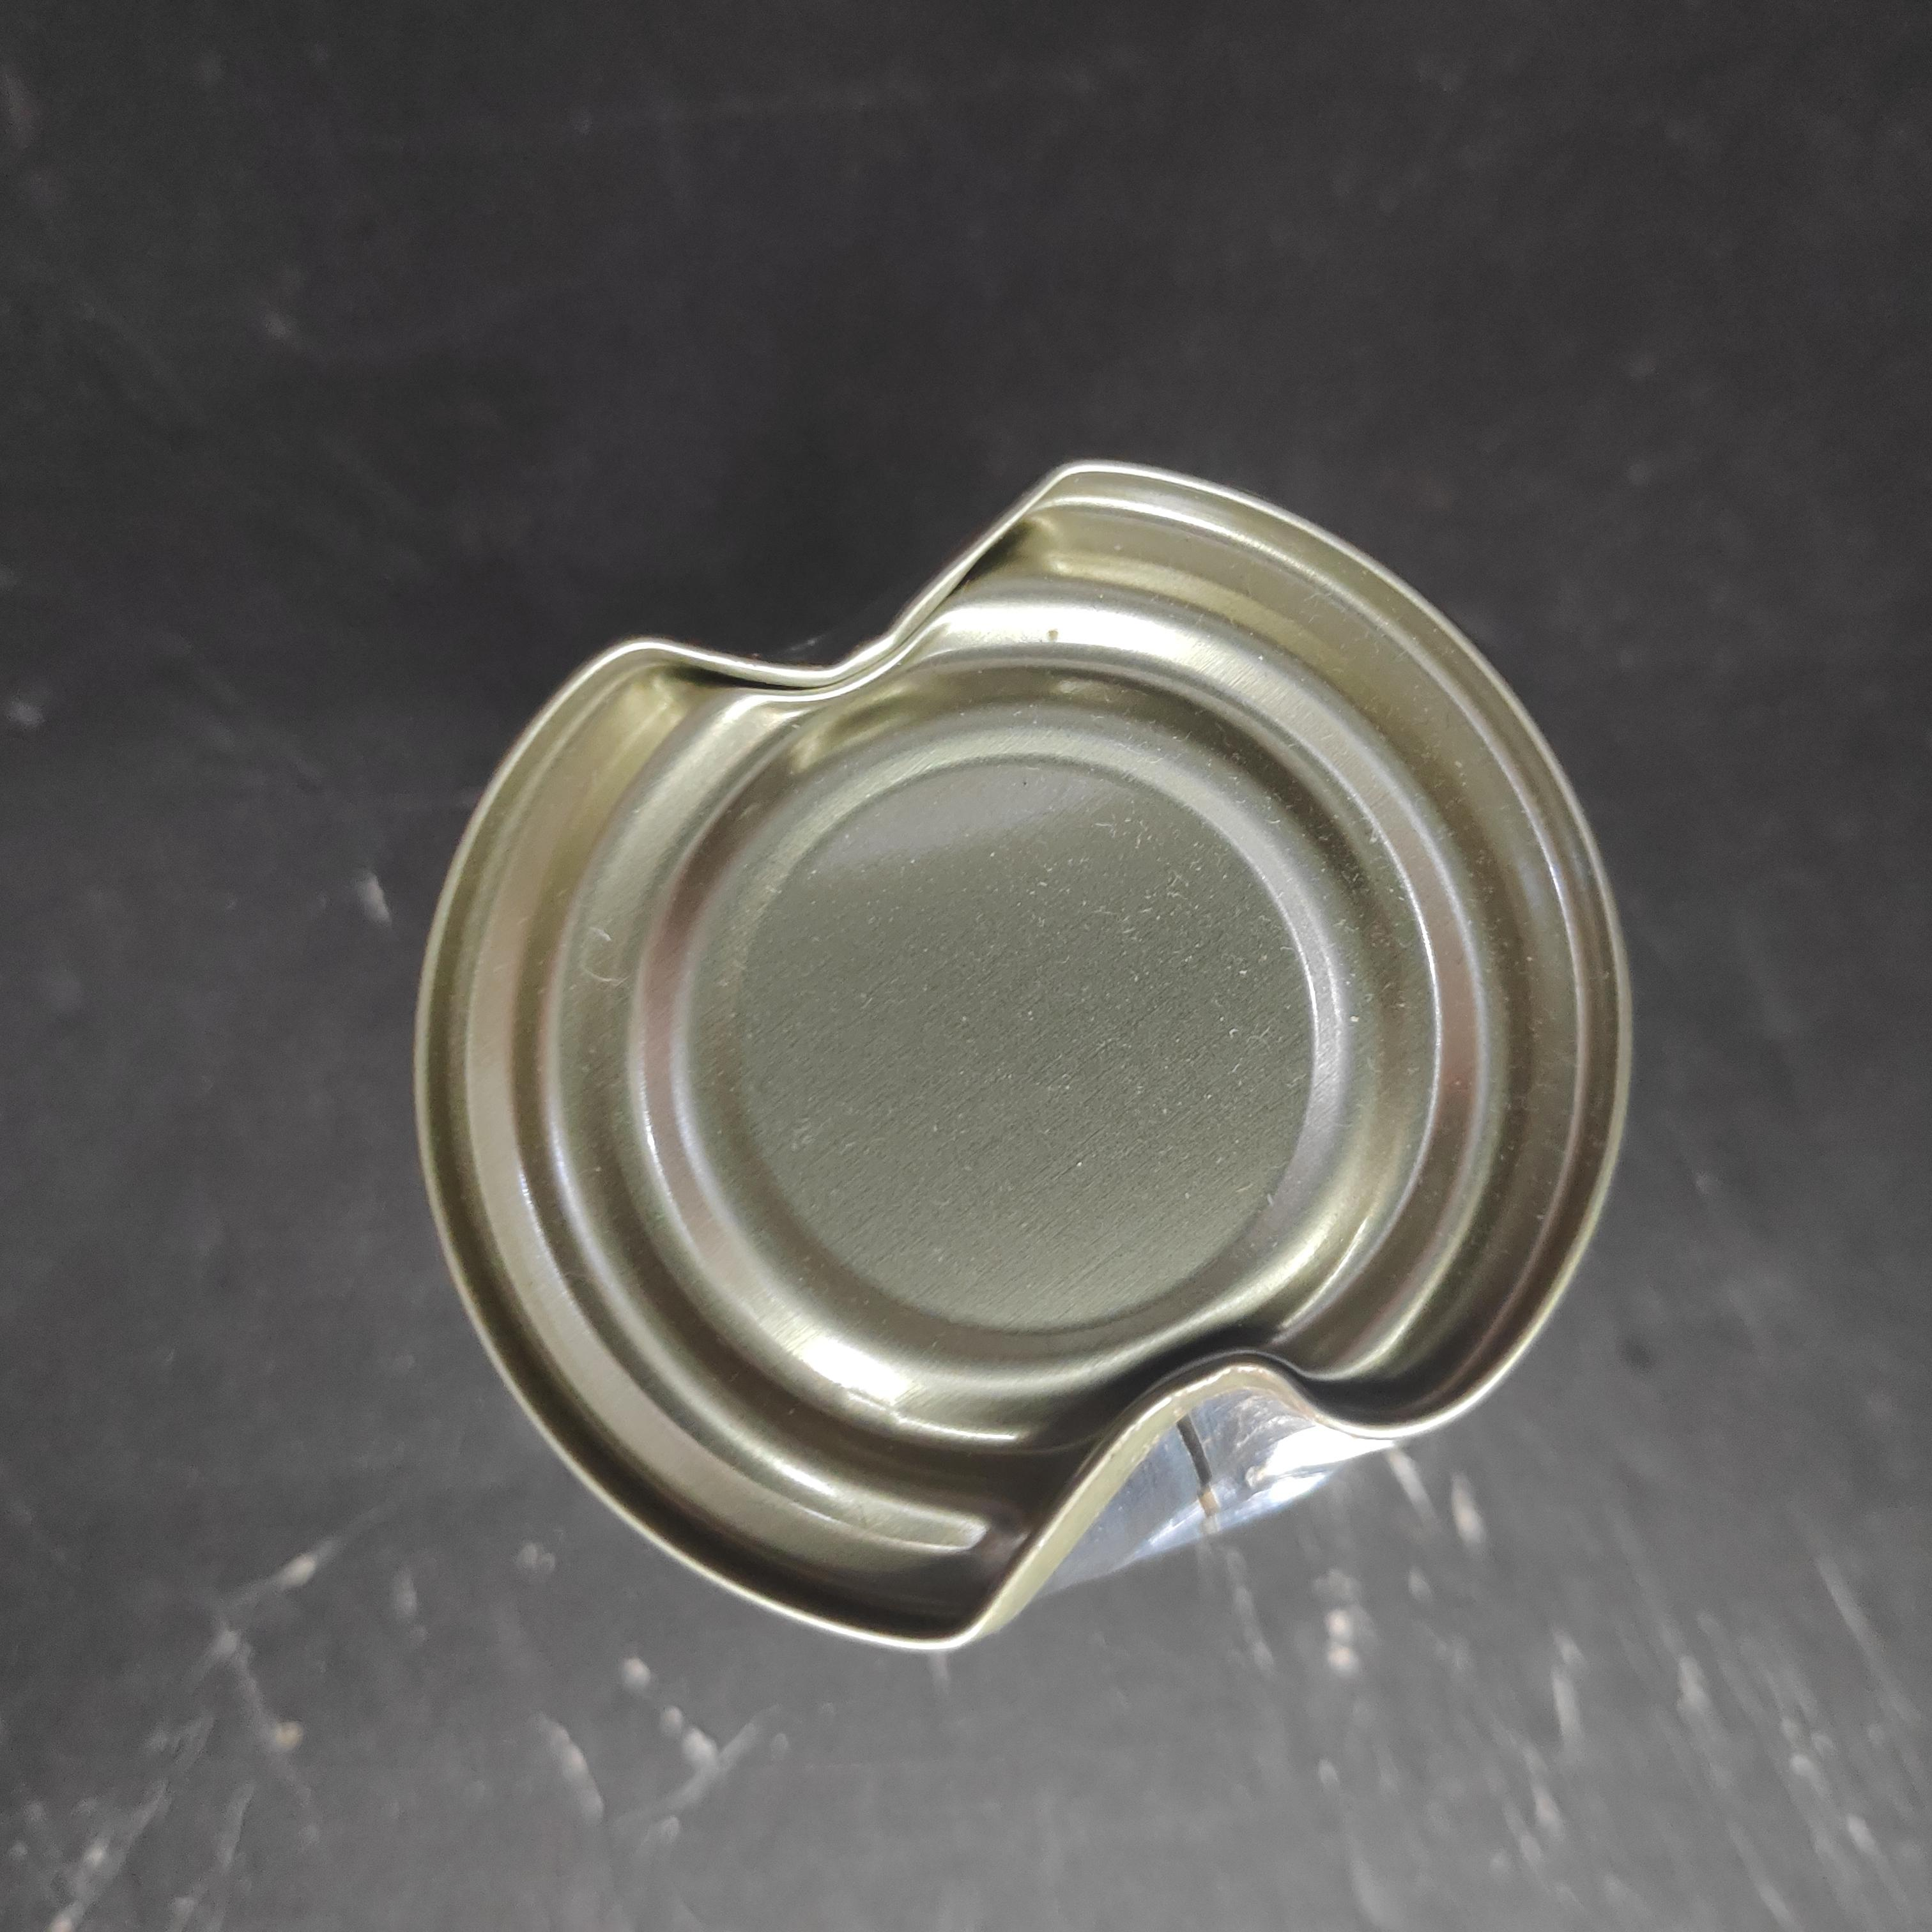Critical Defect: (272, 400, 1486, 1645)
